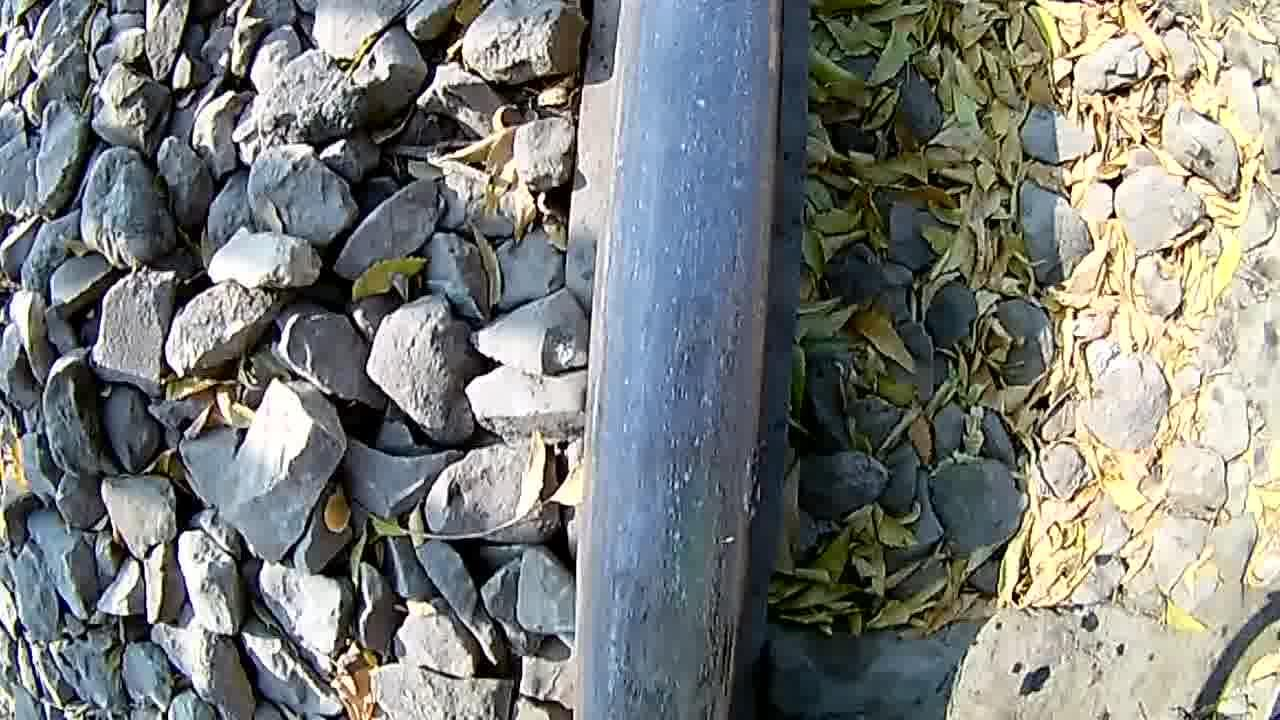bolt_missing: (574, 523, 752, 720)
